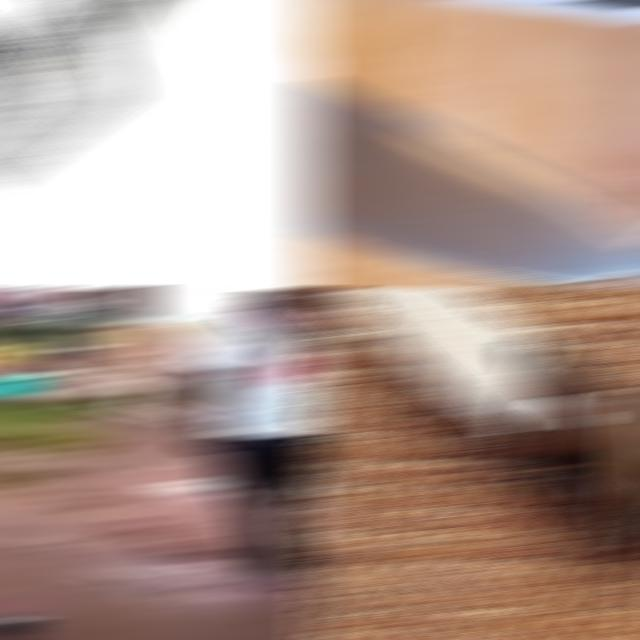Knife: (302, 79, 640, 281), (0, 1, 156, 183)
Knife_Handle: (302, 1, 640, 287)
